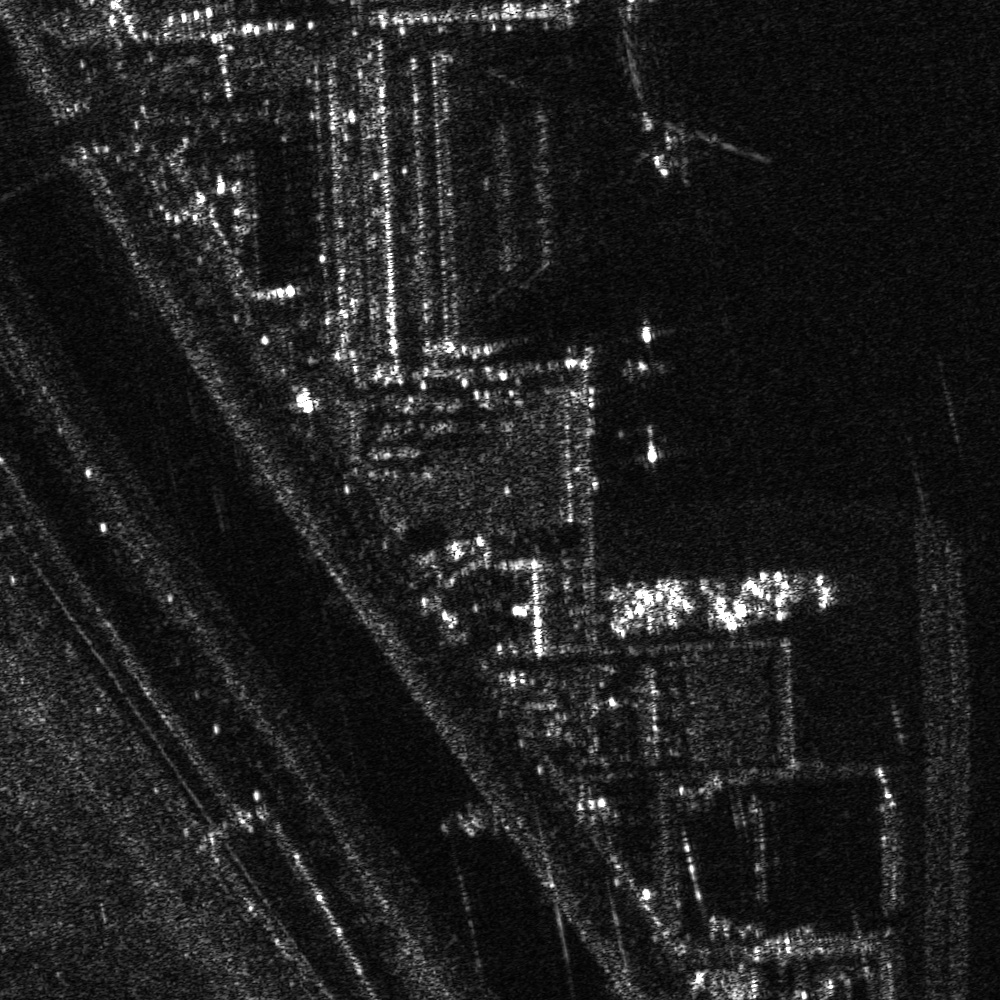A220: (634, 97, 718, 194)
other: (694, 560, 764, 642), (746, 553, 813, 625), (630, 574, 688, 640)
